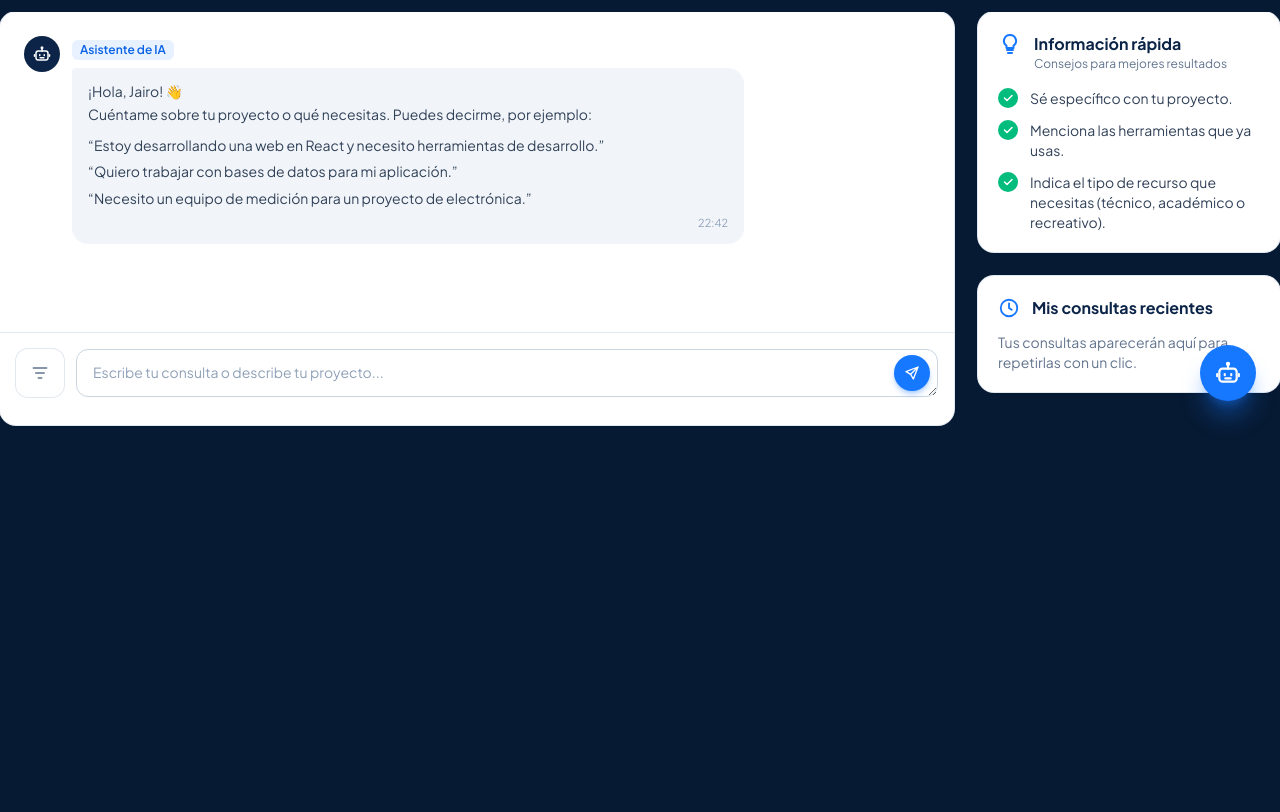
Recomendaciones inteligentes (HU-009) › envía la consulta, muestra los recursos y la guarda en recientes
Expected: the text "¡Hola, Jairo! 👋" is shown, 88,82 -> 183,100
Type "Proyecto de visión por computadora" into the text box labelled "describe tu proyecto" at (507, 373), box 76,349 -> 938,397
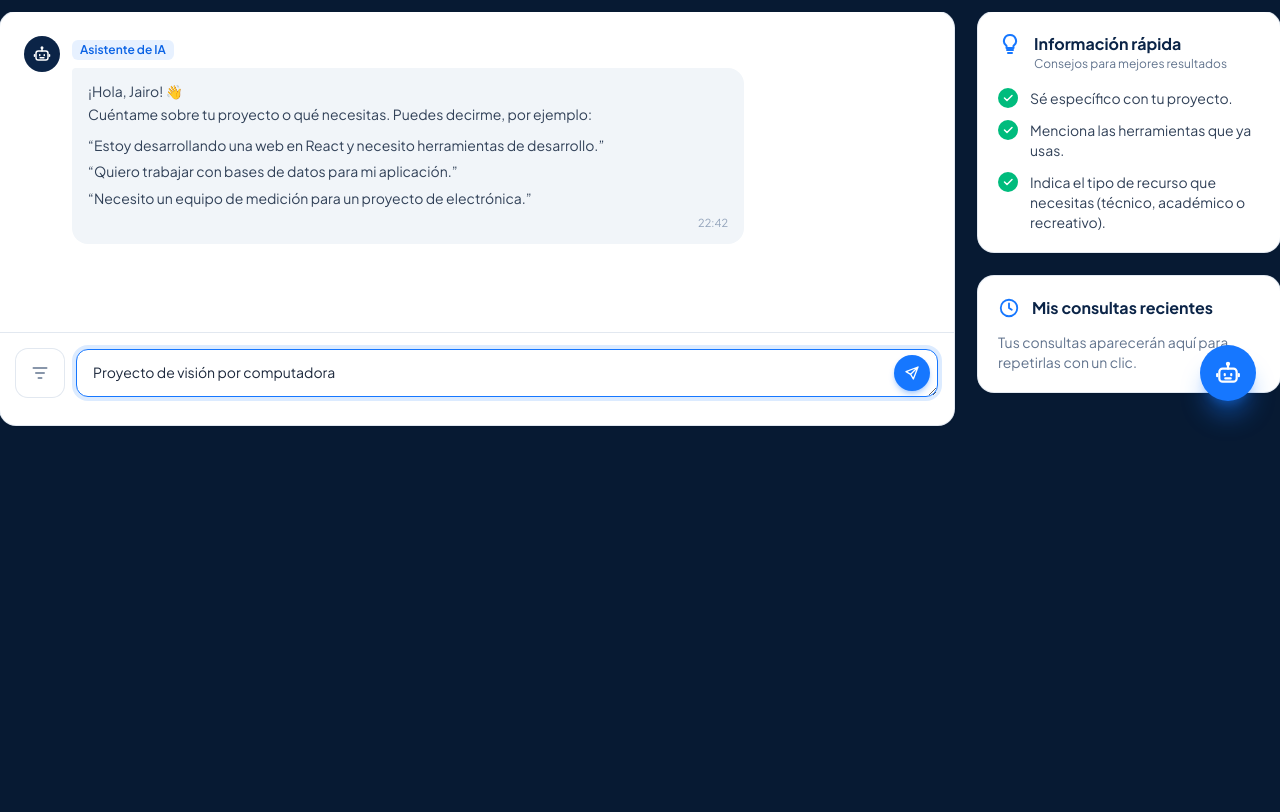
Click the button named "Enviar consulta" at (912, 373), box 894,355 -> 930,391
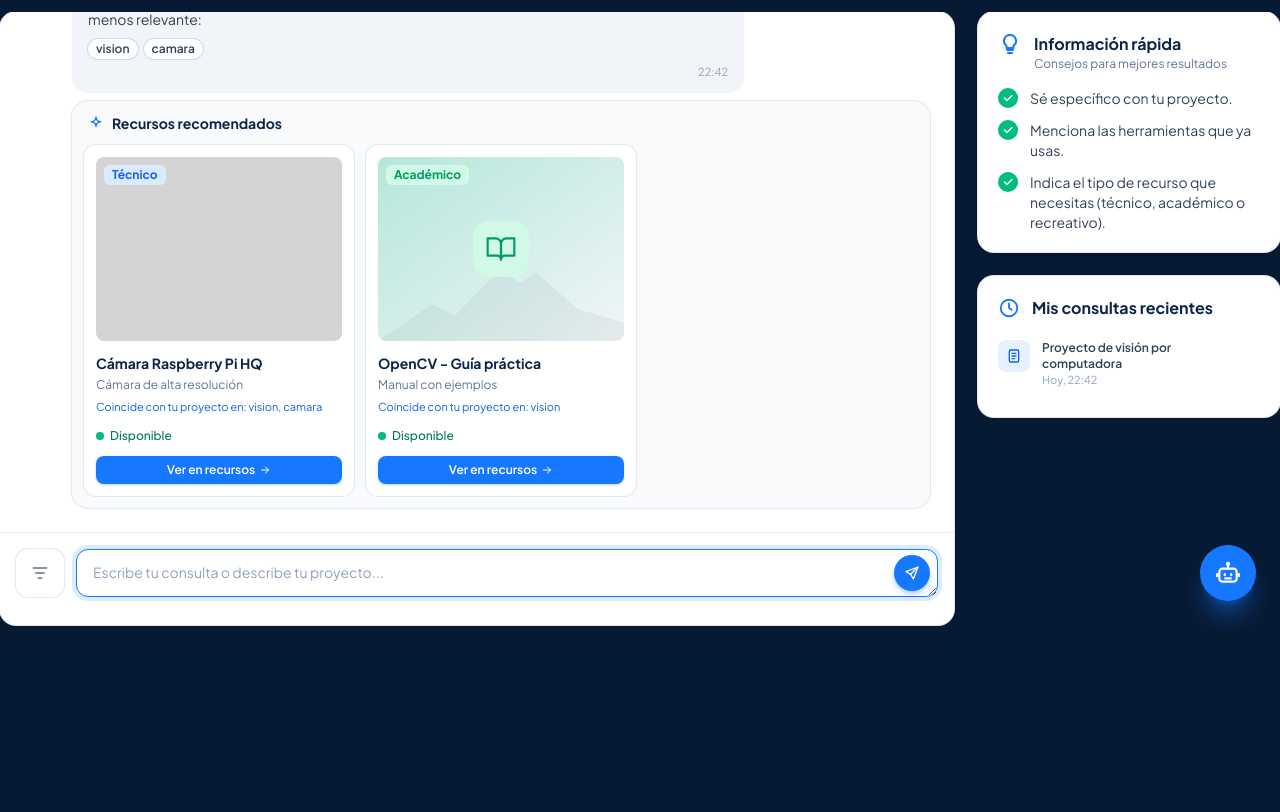
Expected: the link "Cámara Raspberry Pi HQ" is shown, 96,354 -> 262,372
Expected: the link "OpenCV - Guía práctica" is shown, 378,354 -> 541,372
Expected: the text "Proyecto de visión por computadora" is shown, 1042,340 -> 1171,371
